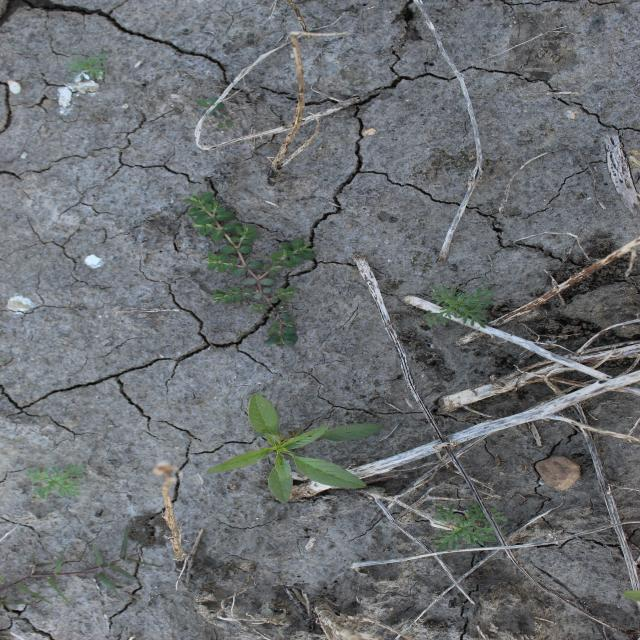Ragweed: (431, 500, 510, 553), (422, 281, 497, 331), (24, 462, 88, 500), (68, 53, 110, 82)
SpottedSpurge: (181, 188, 318, 349)
Waterhemp: (205, 392, 385, 504)
